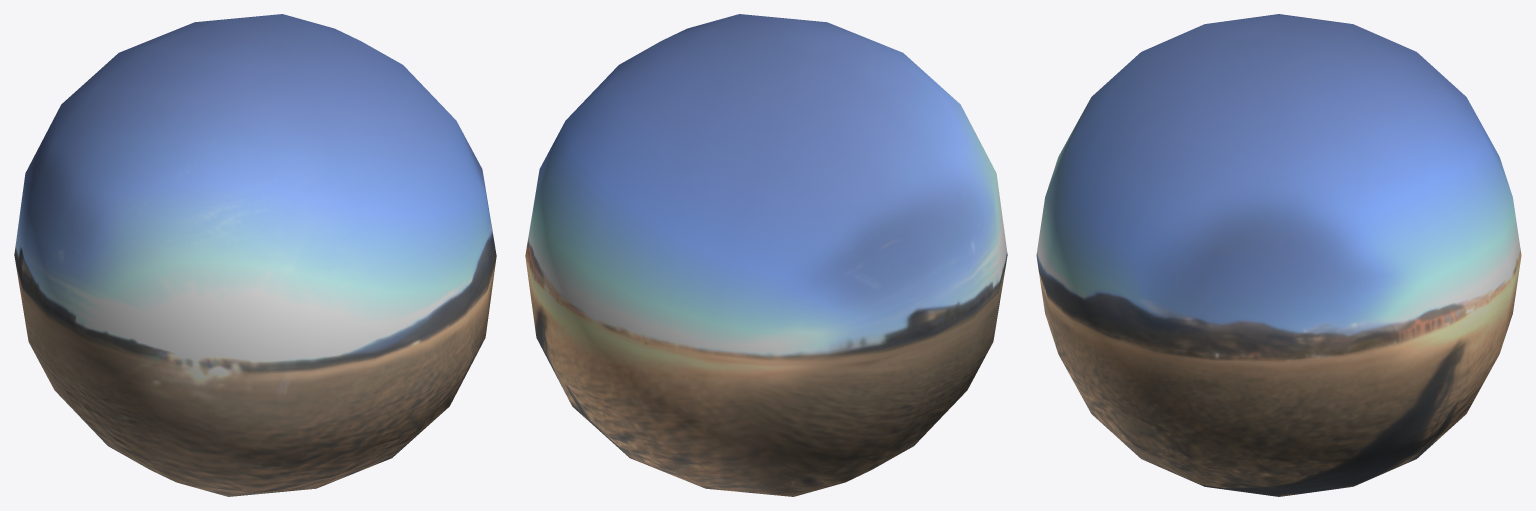
The model's file is sky_sphere.obj.
3 renders of one model, left to right at view 1: azimuth 30°, elevation 25°; view 2: azimuth 150°, elevation 25°; view 3: azimuth 270°, elevation 25°, orthographic.
Visible parts, largest first — view 1: Sphere001; view 2: Sphere001; view 3: Sphere001.
Boxes of the visible parts, <box> form: Sphere001: <box>14,14,496,496</box>; Sphere001: <box>525,14,1007,496</box>; Sphere001: <box>1036,14,1521,496</box>.
Size of the model in its own units: 765 by 765 by 765.
Materials: 1 (1 with a texture image).
